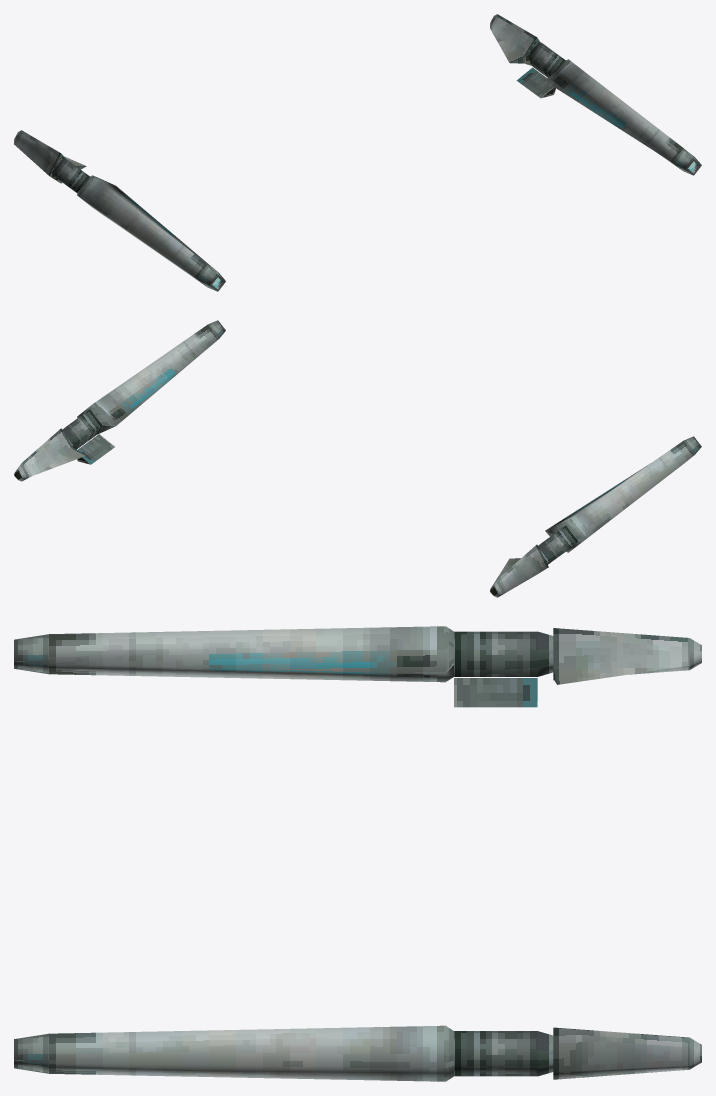
File: awing_weapon_s02_l2.fbx
The picture shows the model from 3 angles, top to bottom: view 1: azimuth 30°, elevation 25°; view 2: azimuth 150°, elevation 25°; view 3: azimuth 270°, elevation 25°; orthographic projection. The views are drawn at different scales.
Visible parts, largest first — view 1: mesh_node; view 2: mesh_node; view 3: mesh_node.
Boxes of the visible parts, bbox=[...] form: mesh_node: bbox=[14, 14, 701, 291]; mesh_node: bbox=[14, 320, 701, 597]; mesh_node: bbox=[14, 626, 701, 1081].
Bounding box in the file's own units: 9.48 × 0.6226 × 6.48.
1 material, 1 textured.
